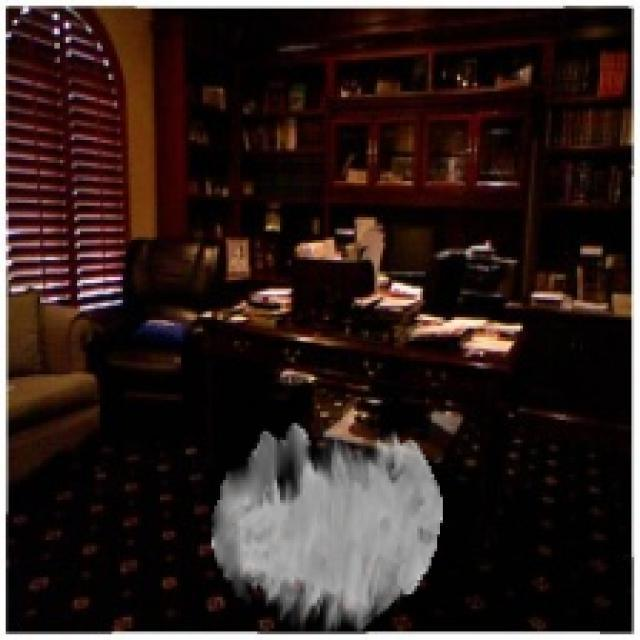Smoke: (211, 423, 443, 634)
